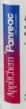ApplichemPanreac: (4, 12, 19, 98)
